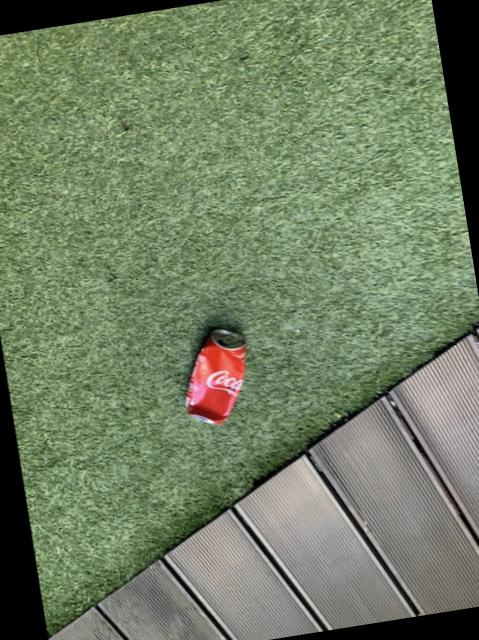metal: (47, 324, 479, 640)
